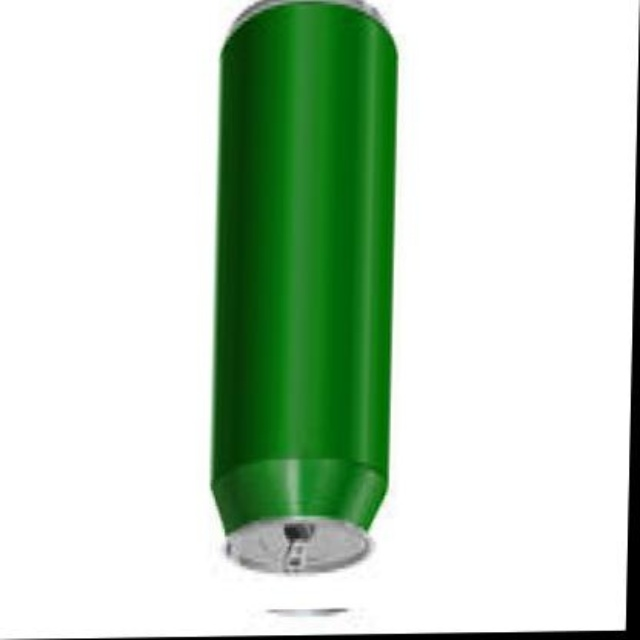trash: (212, 0, 395, 571)
